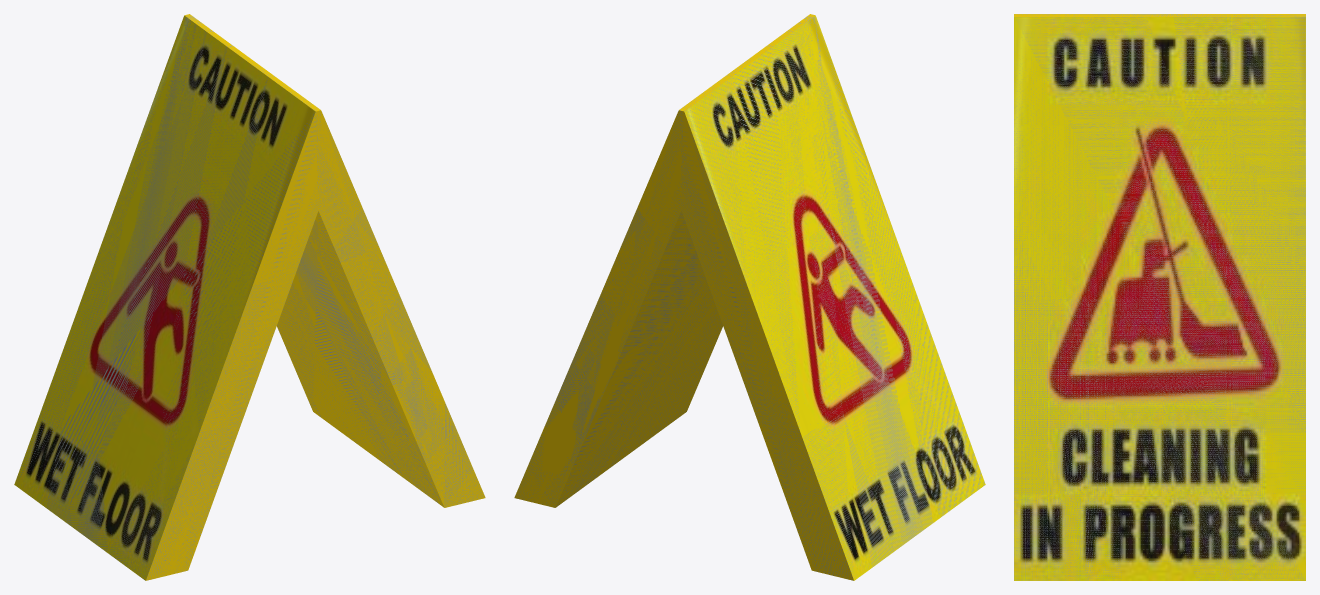
Rendered from CleaningSign.dae.
3 views of the same model, side by side, from view 1: azimuth 30°, elevation 25°; view 2: azimuth 150°, elevation 25°; view 3: azimuth 270°, elevation 25° (orthographic). The views are drawn at different scales.
Parts seen in each view (by area): view 1: SketchUp (×2); view 2: SketchUp (×2); view 3: SketchUp (×2).
Boxes of the visible parts, x1,y1,x2,y2 form: SketchUp (×2): (14, 14, 485, 580); SketchUp (×2): (514, 14, 985, 580); SketchUp (×2): (1014, 14, 1305, 580).
Bounding box in the file's own units: 32.28 × 21.63 × 38.83.
